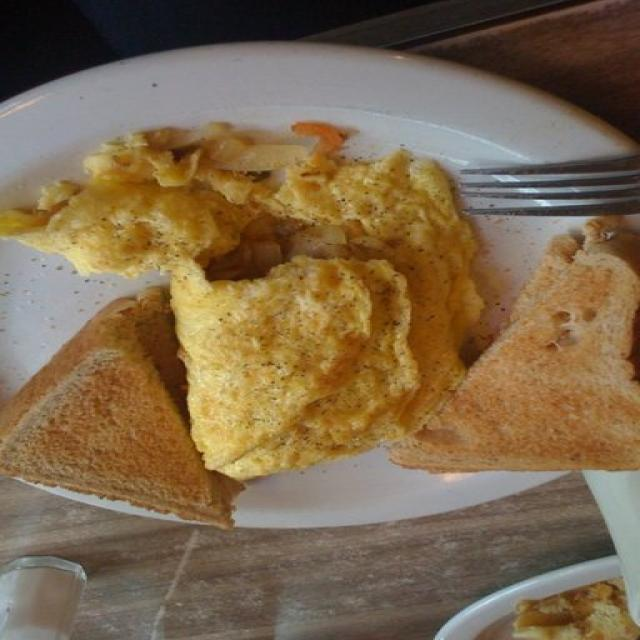telur_ayam_dadar: (183, 123, 484, 486)
